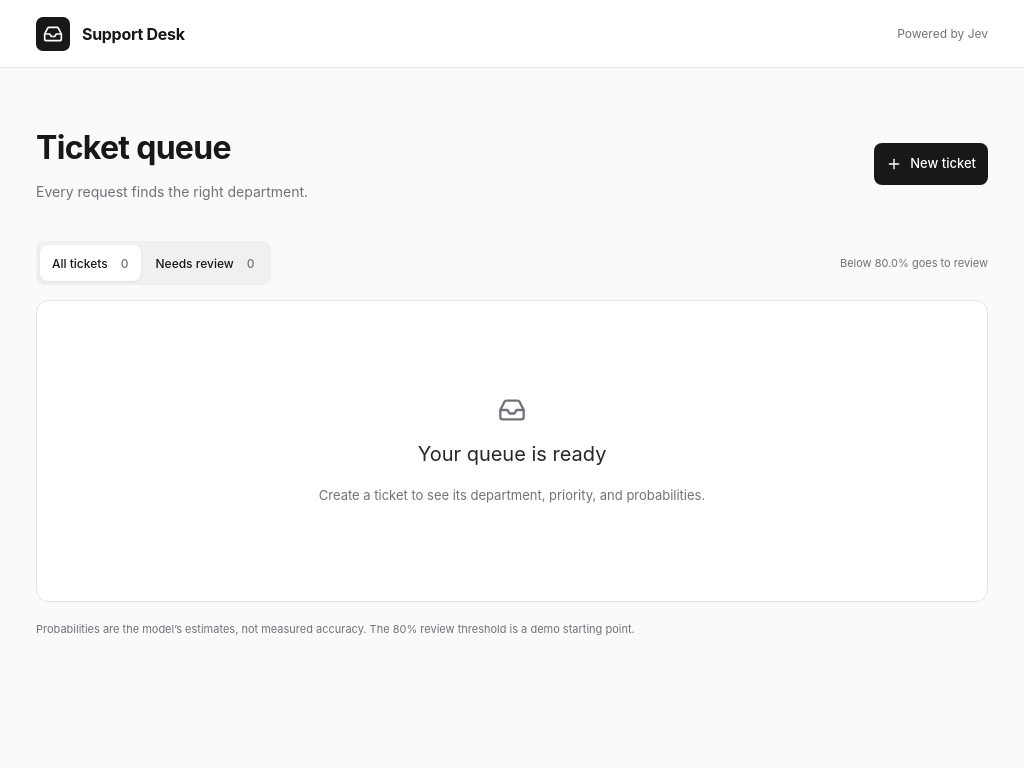
Scenario: create needs only subject and message and makes one request
Expected: the heading "Your queue is ready" is shown, [418, 439, 606, 469]
Click the button "New ticket" at (931, 164), box [874, 143, 988, 185]
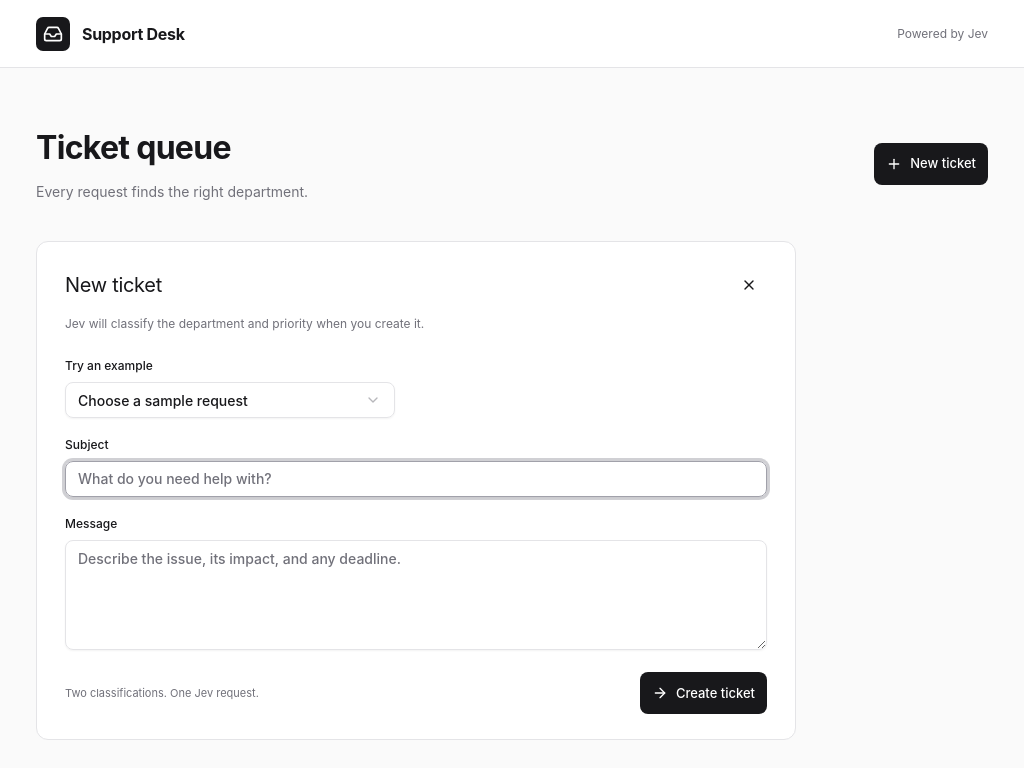
Type "New request" into the field labelled "Subject" at (416, 479), box [65, 461, 767, 497]
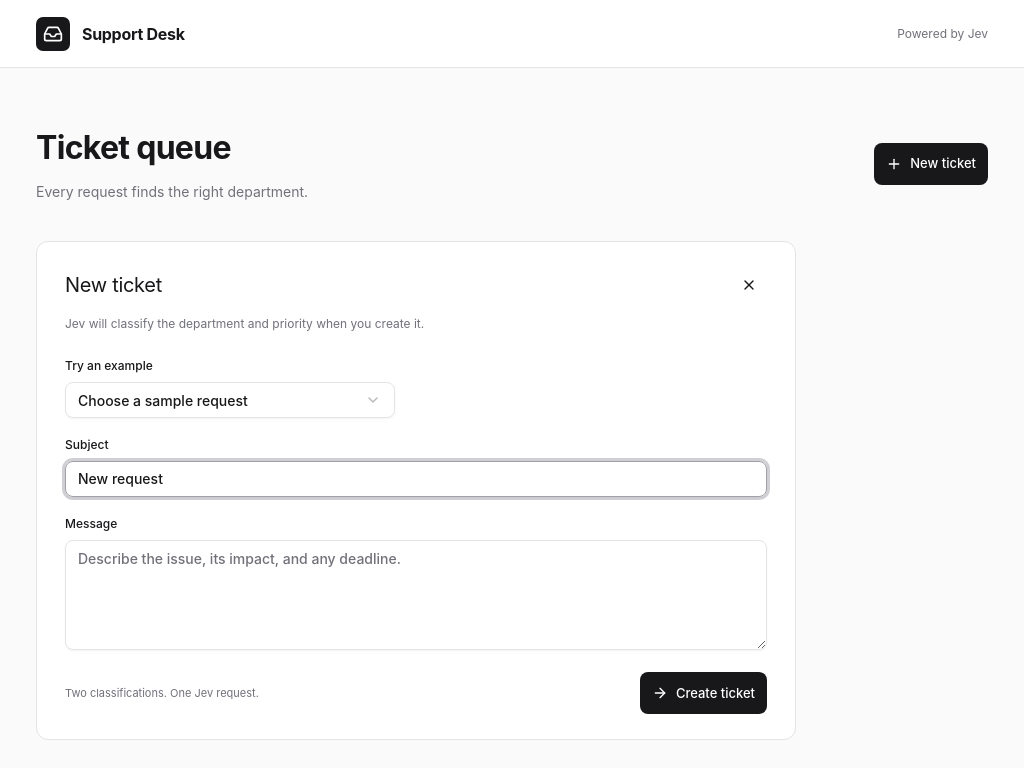
Type "Need access" into the text box labelled "Message" at (416, 595), box [65, 540, 767, 650]
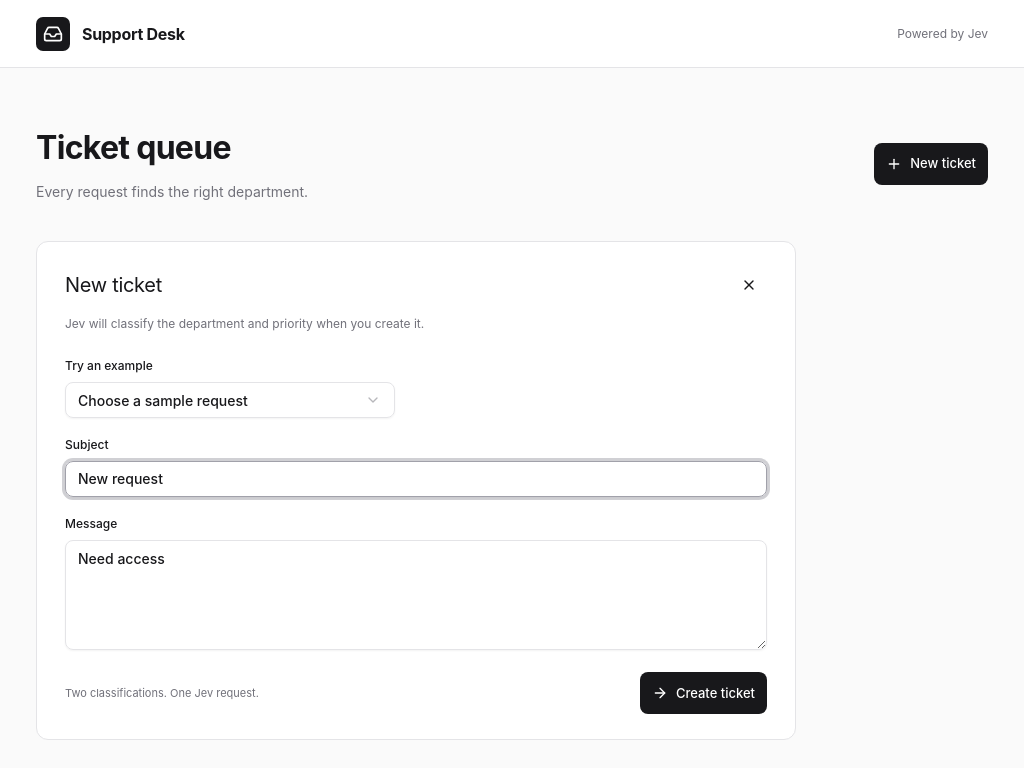
Click the button "Create ticket" at (703, 693), box [640, 672, 767, 714]
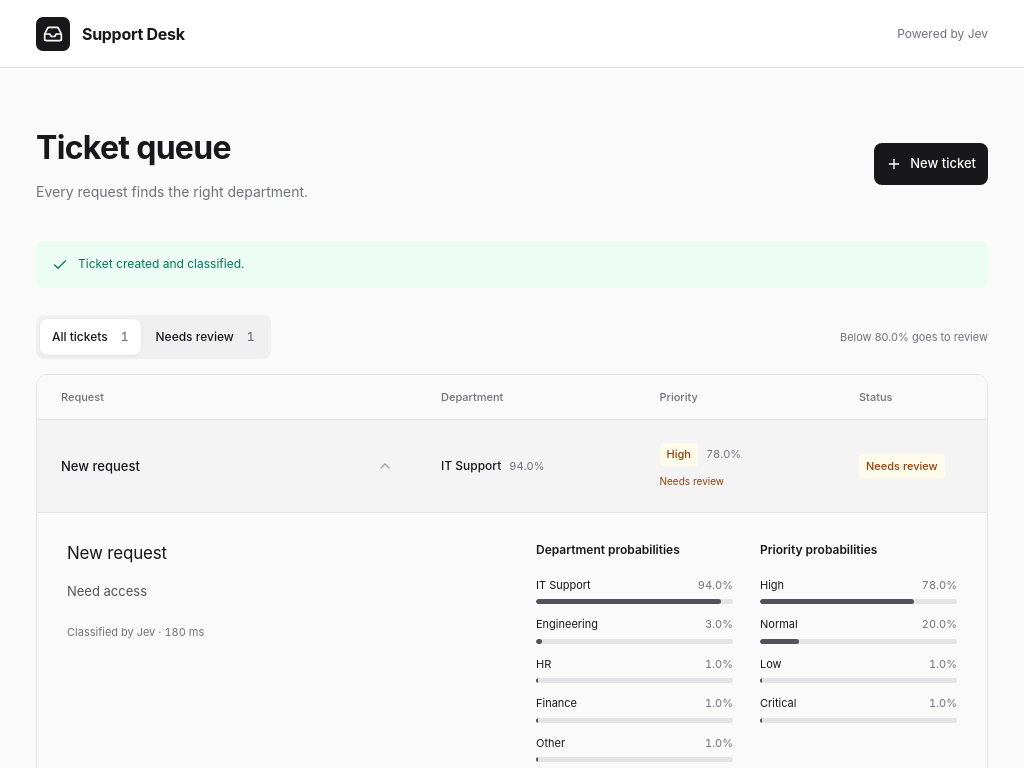
Now the button "New request" is shown, box [61, 452, 393, 480]
